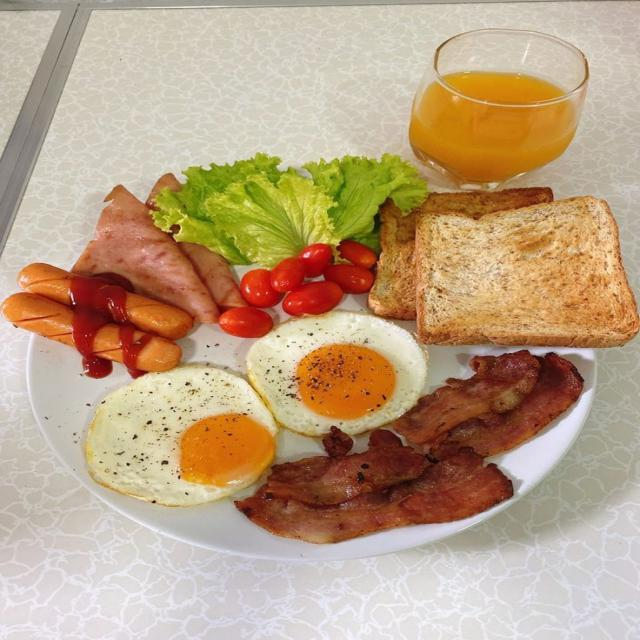beacon: (238, 449, 512, 543), (74, 185, 217, 322), (430, 354, 581, 457), (392, 351, 540, 445), (267, 427, 424, 505), (178, 241, 246, 312), (146, 174, 181, 209)
fryed egg: (86, 365, 277, 506), (247, 311, 426, 435)
lettuce: (151, 154, 280, 264), (205, 172, 337, 267), (303, 154, 426, 241)
orange juice: (409, 71, 580, 181)
sausage: (3, 292, 76, 346), (121, 294, 192, 339), (18, 263, 78, 305), (132, 329, 181, 371), (91, 322, 123, 362)
sliced bread: (416, 196, 639, 347), (368, 187, 553, 320), (369, 189, 550, 319)
tomato: (283, 281, 342, 314), (219, 307, 272, 337), (241, 269, 282, 307), (324, 264, 373, 293), (338, 239, 377, 269), (270, 258, 304, 291)
